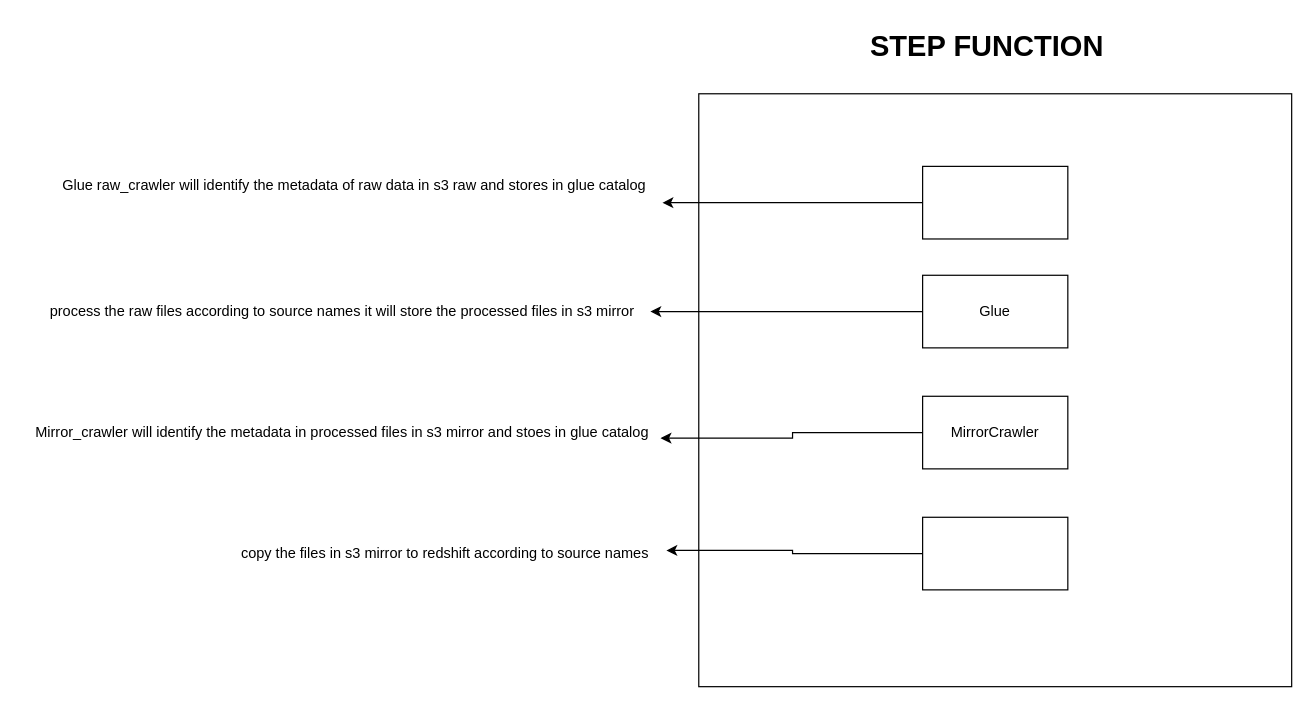
Image size: 1313x708. Some labels were removed from this diagram. The shapes that lost their labels are listed below. From the top down, each one's box as (x1, y1, x2, y2) in pixels, then its label:
(921, 165, 1068, 239): Raw crawler
(921, 516, 1068, 590): Copy to redshift
